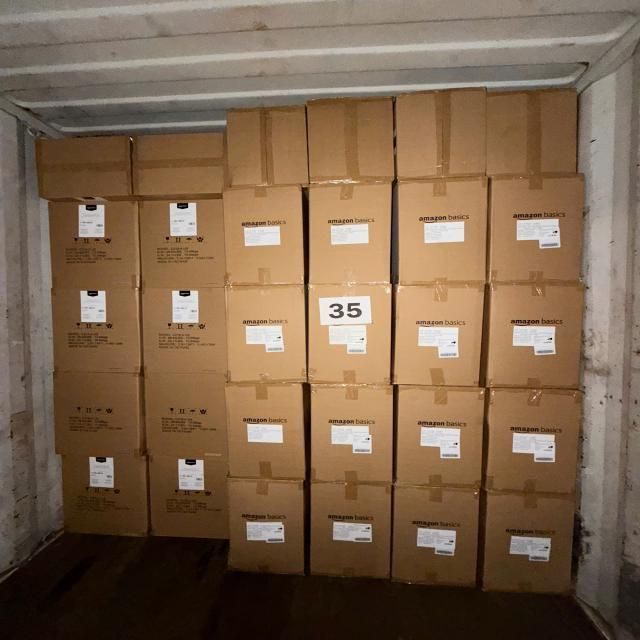Carton: (487, 282, 589, 391), (492, 179, 592, 288), (485, 492, 580, 600), (488, 386, 584, 492), (395, 175, 488, 284), (390, 486, 480, 592), (394, 285, 484, 391), (395, 382, 484, 487), (308, 182, 394, 287), (310, 380, 396, 484), (308, 285, 393, 390), (45, 196, 139, 288), (225, 381, 308, 483), (309, 484, 393, 584), (398, 88, 487, 182), (224, 184, 306, 286), (227, 474, 307, 578), (226, 286, 308, 387), (491, 88, 582, 178), (15, 130, 128, 201), (52, 372, 144, 458), (142, 199, 228, 289), (143, 290, 231, 377), (306, 96, 392, 185), (50, 292, 141, 376), (146, 371, 232, 459), (60, 457, 148, 538), (149, 458, 231, 543), (228, 105, 310, 188), (133, 130, 224, 199)
